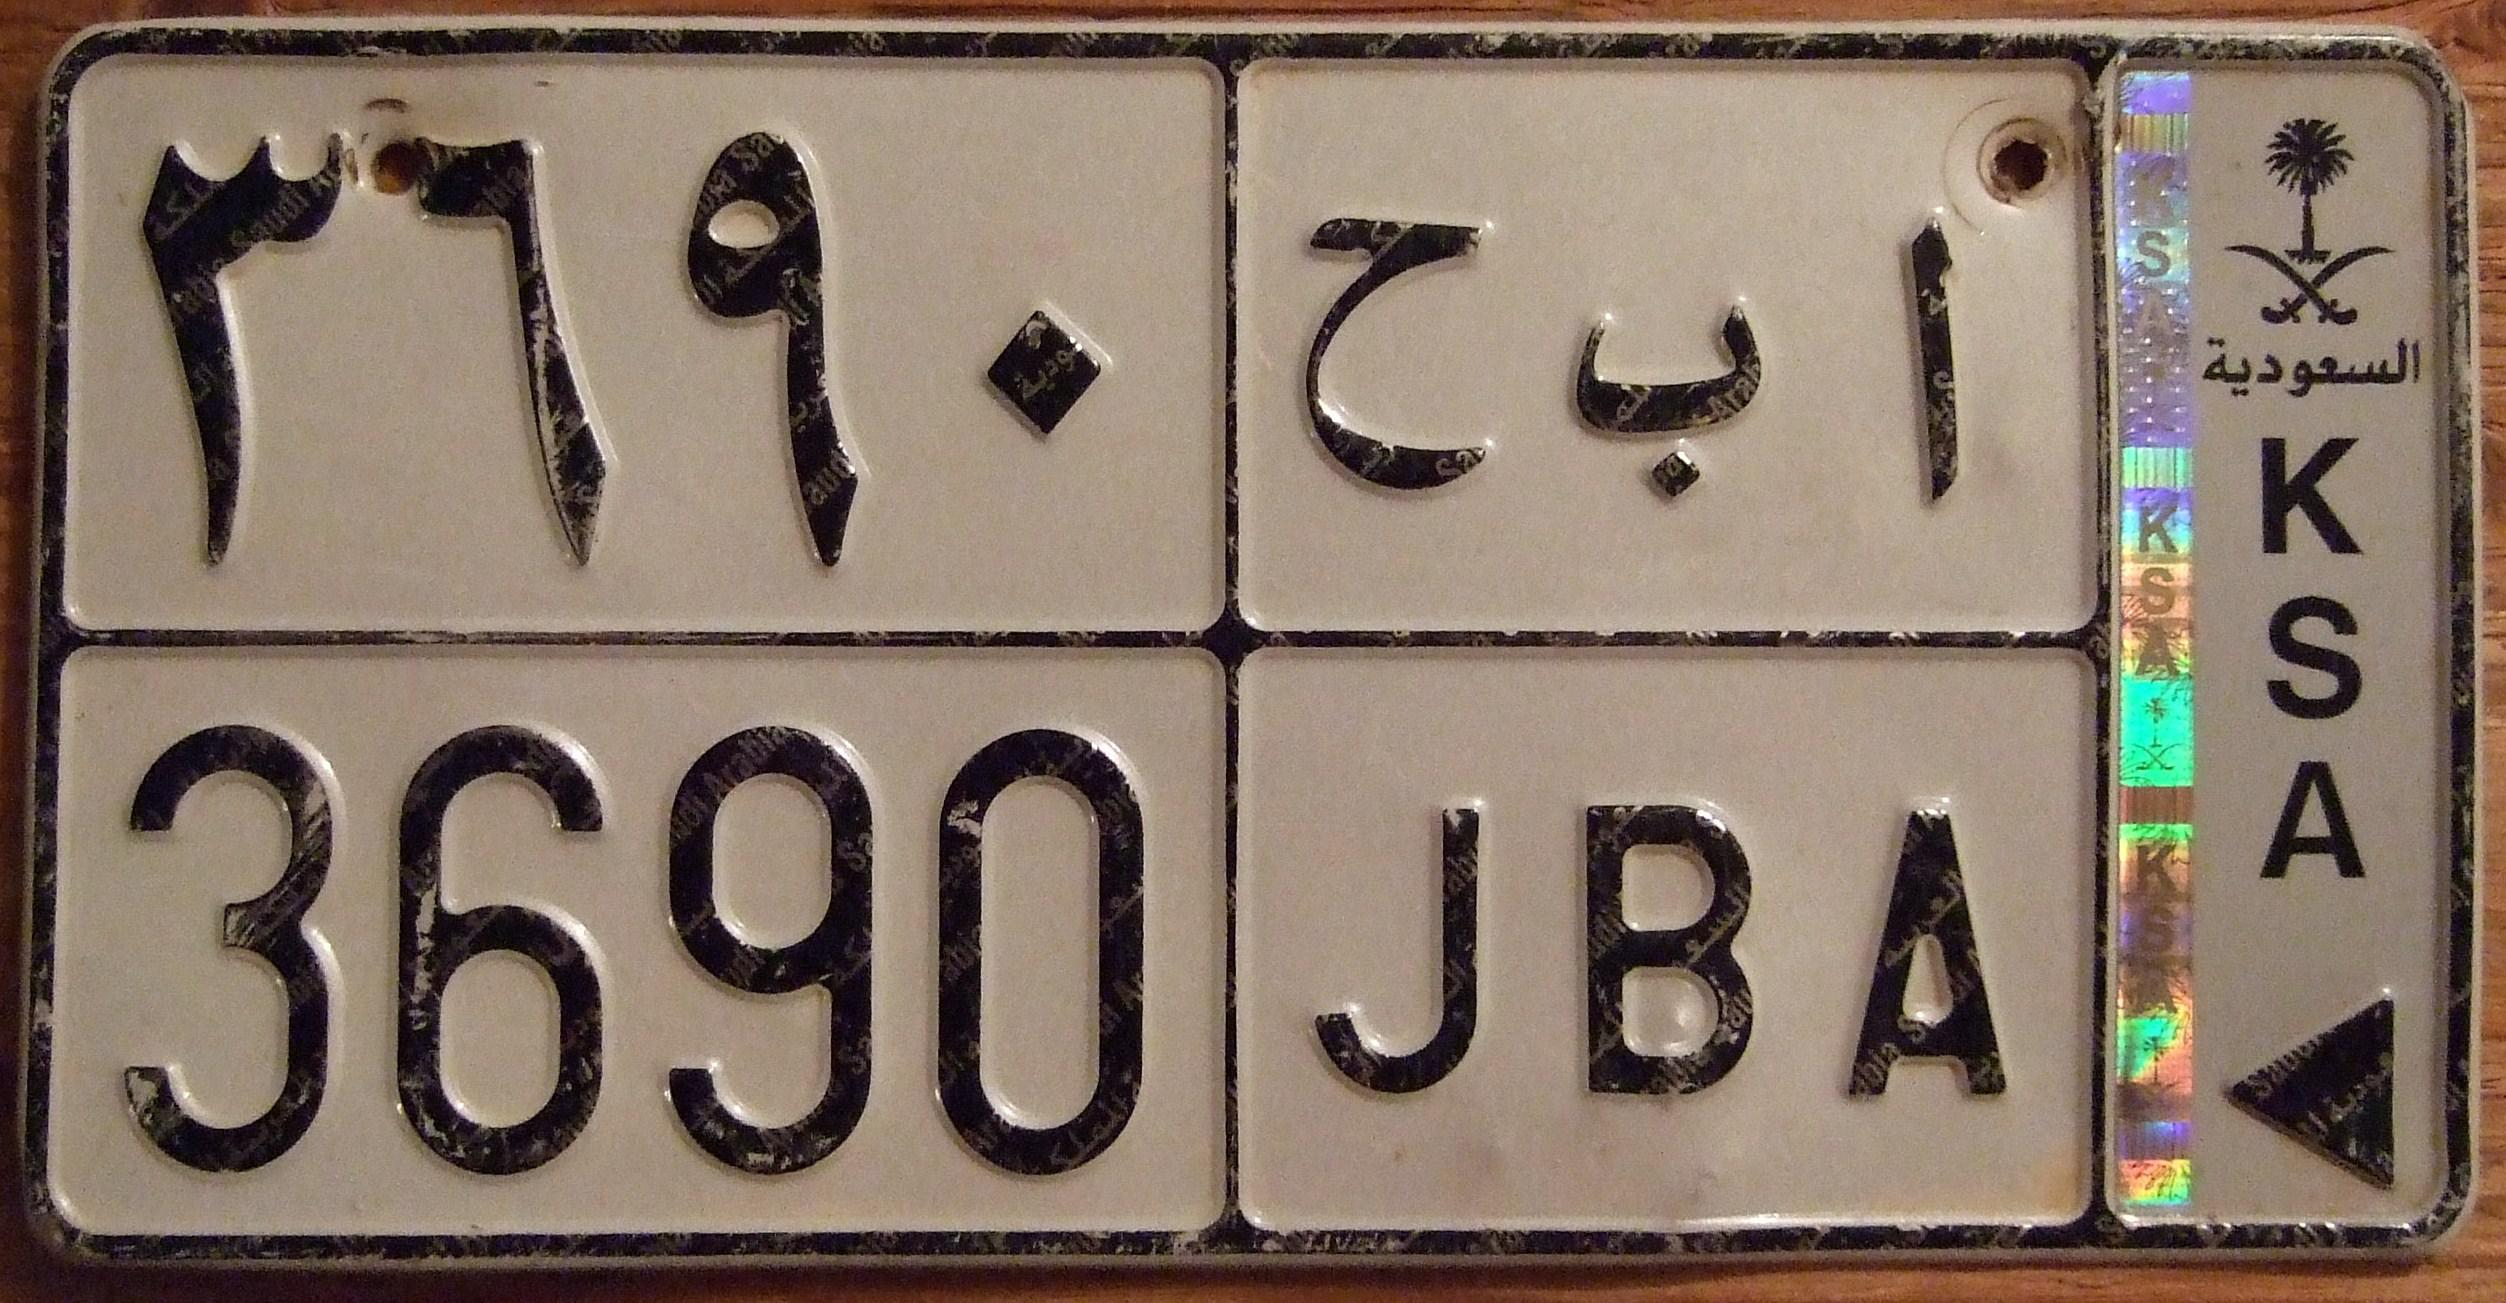0: (924, 300, 1150, 1184)
3: (116, 121, 354, 1179)
6: (388, 132, 620, 1181)
9: (662, 118, 887, 1182)
A: (1839, 214, 2016, 1101)
B: (1572, 297, 1761, 1097)
J: (1304, 206, 1495, 1098)
